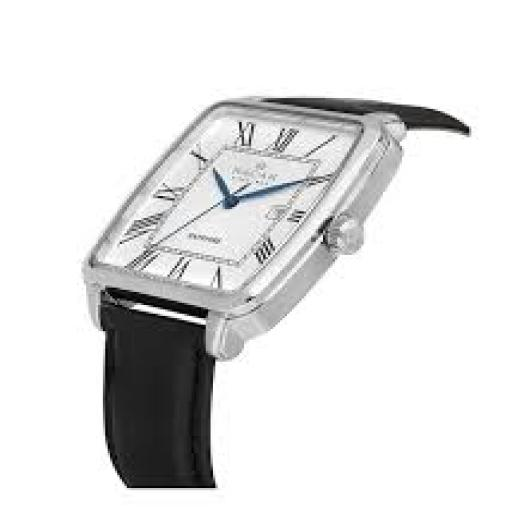KolSaati: (43, 52, 478, 498)
